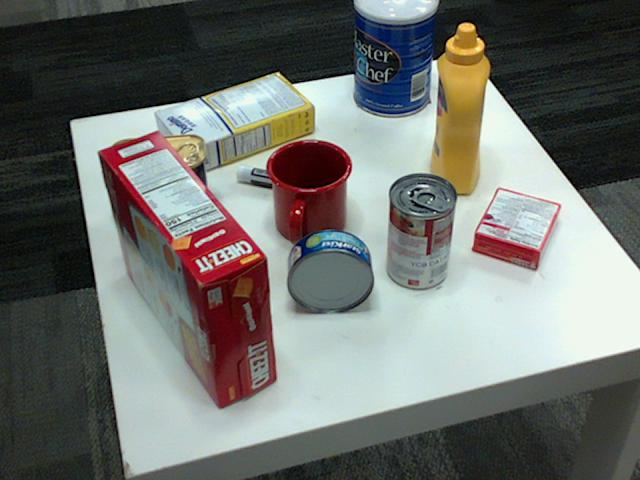cracker_box: (96, 130, 277, 405)
gelatin_box: (473, 187, 561, 268)
large_marker: (235, 168, 335, 198)
master_chef_can: (351, 0, 436, 116)
mug: (266, 136, 354, 243)
mustard_bottle: (429, 24, 489, 193)
potted_meat_can: (109, 134, 210, 227)
sugar_box: (155, 71, 316, 173)
tomato_soup_can: (386, 173, 456, 289)
tuna_fish_can: (288, 229, 375, 312)
